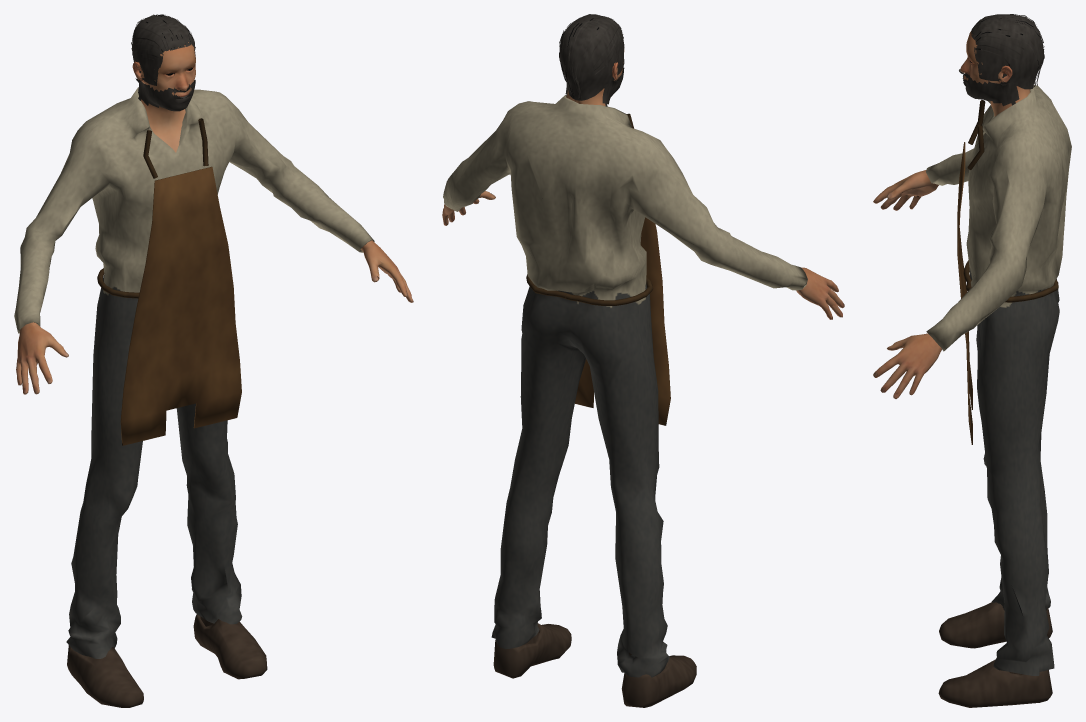
File: blacksmith_draft.glb
3 renders of one model, left to right at view 1: azimuth 30°, elevation 25°; view 2: azimuth 150°, elevation 25°; view 3: azimuth 270°, elevation 25°, orthographic.
Parts seen in each view (by area): view 1: Harlan_Blacksmith_Draft; view 2: Harlan_Blacksmith_Draft; view 3: Harlan_Blacksmith_Draft.
Boxes of the visible parts, x1,y1,x2,y2 form: Harlan_Blacksmith_Draft: (14,14,413,707); Harlan_Blacksmith_Draft: (442,14,844,707); Harlan_Blacksmith_Draft: (873,14,1071,707).
Bounding box in the file's own units: 1.54 × 2.47 × 0.6806.
Materials: 1 (1 with a texture image).
